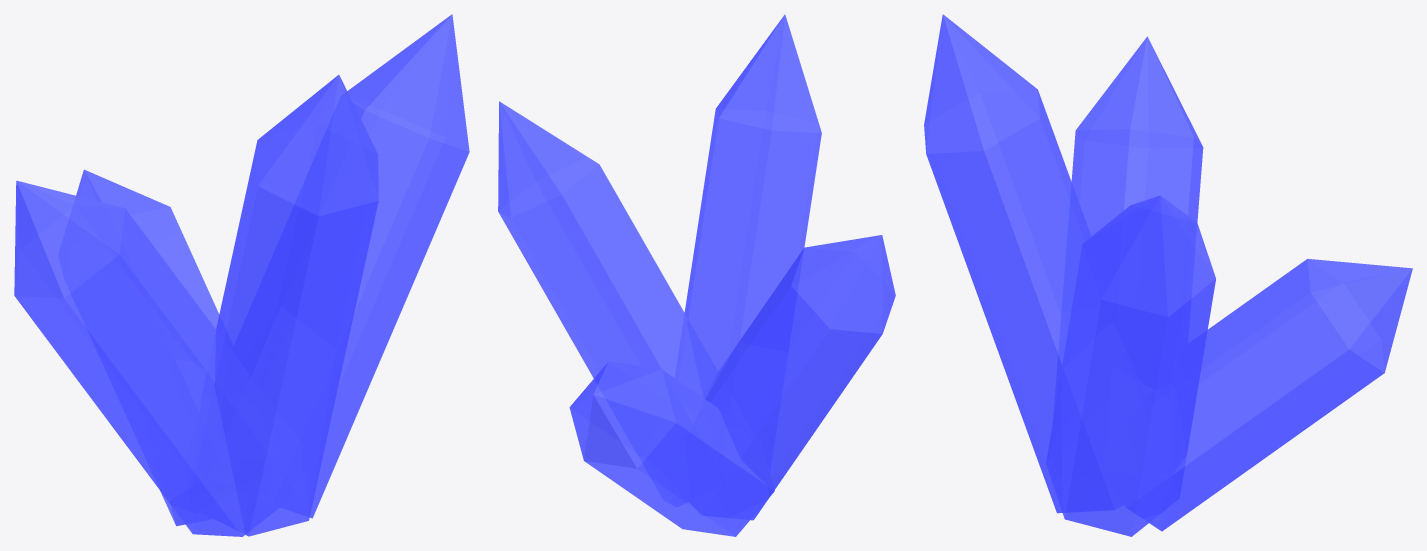
The model's file is Crystals1.glb.
3 views of the same model, side by side, from view 1: azimuth 30°, elevation 25°; view 2: azimuth 150°, elevation 25°; view 3: azimuth 270°, elevation 25° (orthographic). The views are drawn at different scales.
Parts seen in each view (by area): view 1: CrystalPiece.001, CrystalPiece, CrystalPiece.002, CrystalPiece.003; view 2: CrystalPiece.001, CrystalPiece.002, CrystalPiece, CrystalPiece.003; view 3: CrystalPiece.001, CrystalPiece.002, CrystalPiece.003, CrystalPiece.
Part boxes in pixels (bbox=[...]): CrystalPiece.001: bbox=[188, 75, 378, 536]; CrystalPiece: bbox=[14, 180, 298, 536]; CrystalPiece.002: bbox=[243, 14, 469, 518]; CrystalPiece.003: bbox=[76, 169, 219, 526]; CrystalPiece.001: bbox=[675, 14, 821, 470]; CrystalPiece.002: bbox=[498, 101, 717, 506]; CrystalPiece: bbox=[685, 235, 895, 520]; CrystalPiece.003: bbox=[569, 361, 774, 536]; CrystalPiece.001: bbox=[924, 14, 1152, 513]; CrystalPiece.002: bbox=[1046, 195, 1215, 536]; CrystalPiece.003: bbox=[1125, 258, 1412, 531]; CrystalPiece: bbox=[1049, 36, 1203, 474].
Size of the model in its own units: 7.25 by 8.18 by 7.06.
